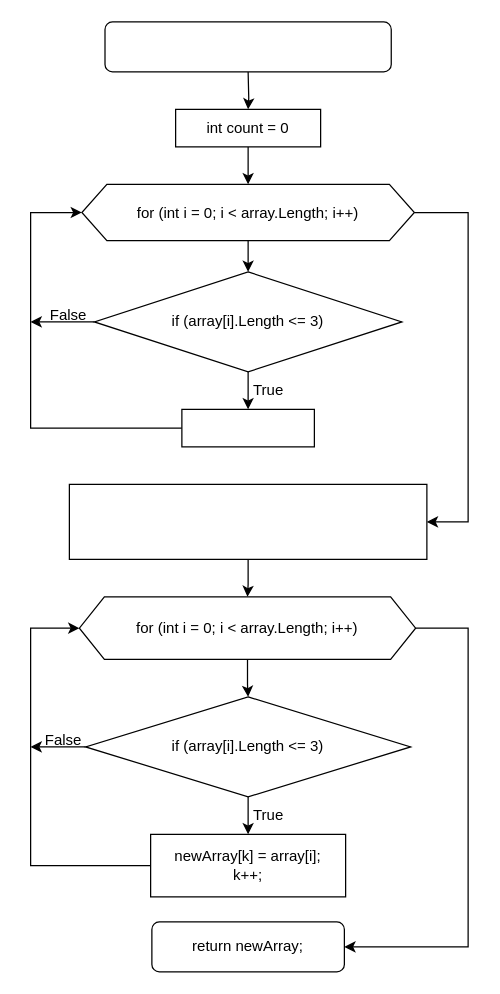
This 500x994 diagram has some shape labels left out. Each missing label, with the centre of its shape:
count++;: (x=247, y=427)
string[] newArray = new string[count]; int k = 0;: (x=247, y=521)
string[] ReleaseArray(string[] array): (x=247, y=46)
